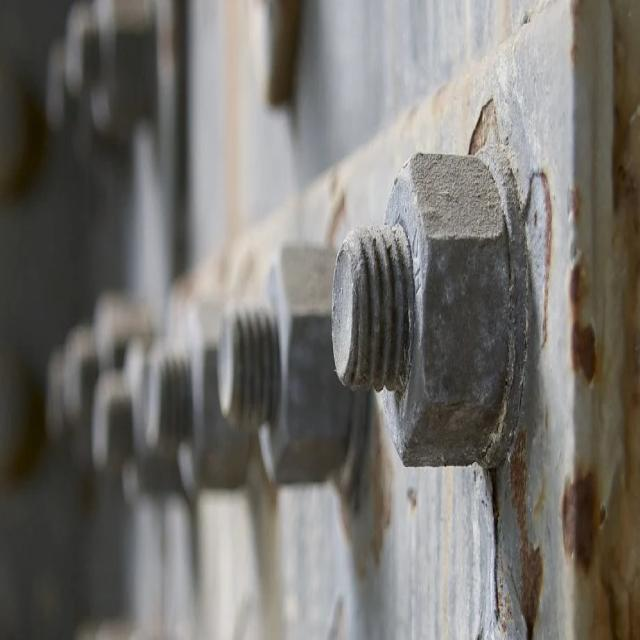Logam: (273, 88, 528, 442)
